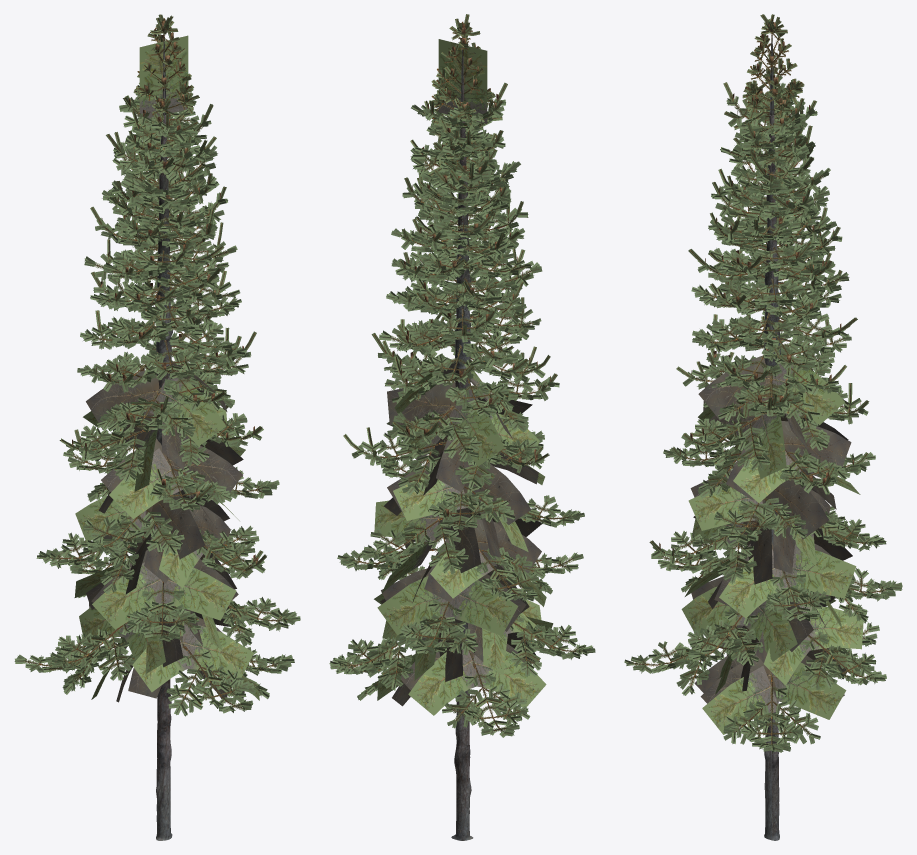
File: White Fir Tall (HD).fbx
The picture shows the model from 3 angles, left to right: view 1: azimuth 30°, elevation 25°; view 2: azimuth 150°, elevation 25°; view 3: azimuth 270°, elevation 25°; orthographic projection.
Parts seen in each view (by area): view 1: White_Fir__Mature___HD__Trunk Bottom; view 2: White_Fir__Mature___HD__Trunk Bottom; view 3: White_Fir__Mature___HD__Trunk Bottom.
Part boxes in pixels (<box>): White_Fir__Mature___HD__Trunk Bottom: <box>14,14,300,840</box>; White_Fir__Mature___HD__Trunk Bottom: <box>329,14,595,840</box>; White_Fir__Mature___HD__Trunk Bottom: <box>624,14,902,840</box>.
Bounding box in the file's own units: 14.43 × 45.14 × 13.87.
